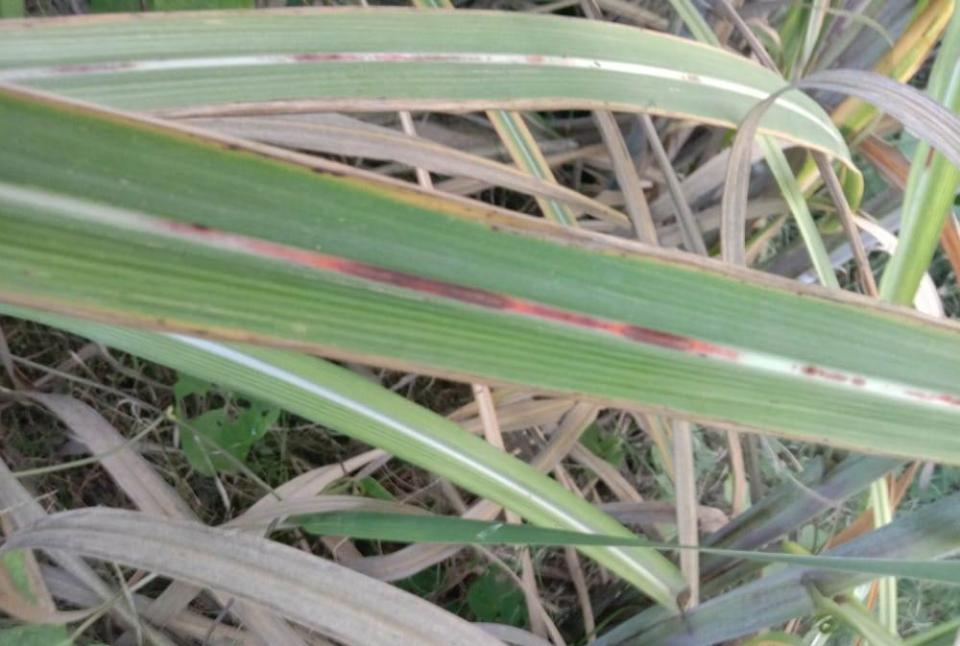RedRot: (150, 217, 959, 409), (288, 53, 493, 62), (47, 59, 143, 75), (523, 55, 547, 64)
